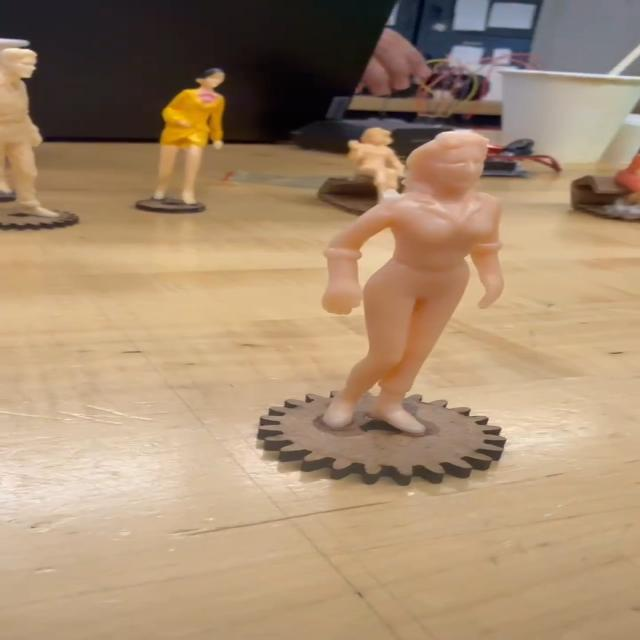Unauthorized: (304, 122, 524, 442)
